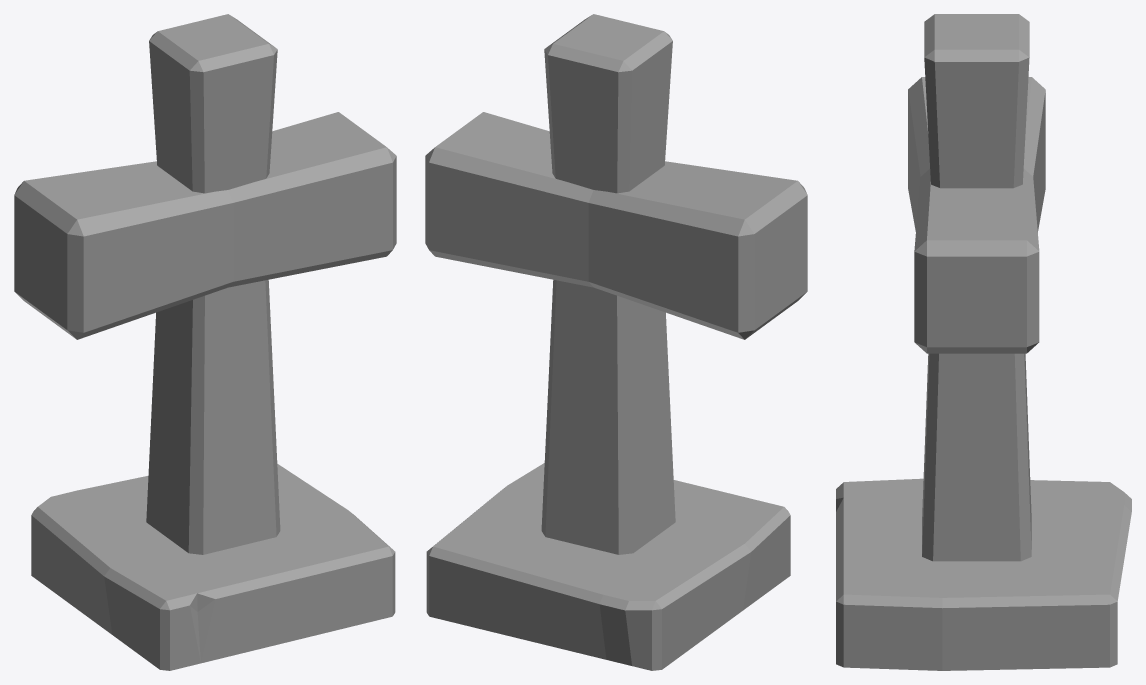
Rendered from Isl_1_Tombstone_2.fbx.
3 views of the same model, side by side, from view 1: azimuth 30°, elevation 25°; view 2: azimuth 150°, elevation 25°; view 3: azimuth 270°, elevation 25° (orthographic). The views are drawn at different scales.
Parts seen in each view (by area): view 1: Isl_1_Tombstone_2; view 2: Isl_1_Tombstone_2; view 3: Isl_1_Tombstone_2.
Boxes of the visible parts, x1,y1,x2,y2 form: Isl_1_Tombstone_2: [14, 14, 396, 670]; Isl_1_Tombstone_2: [425, 14, 807, 670]; Isl_1_Tombstone_2: [836, 14, 1131, 670].
Size of the model in its own units: 124 by 92.15 by 198.
Materials: 1 (1 with a texture image).
